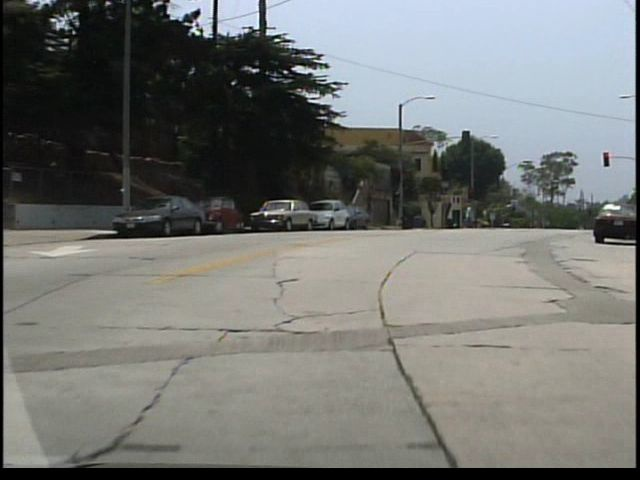person: (467, 204, 476, 230)
